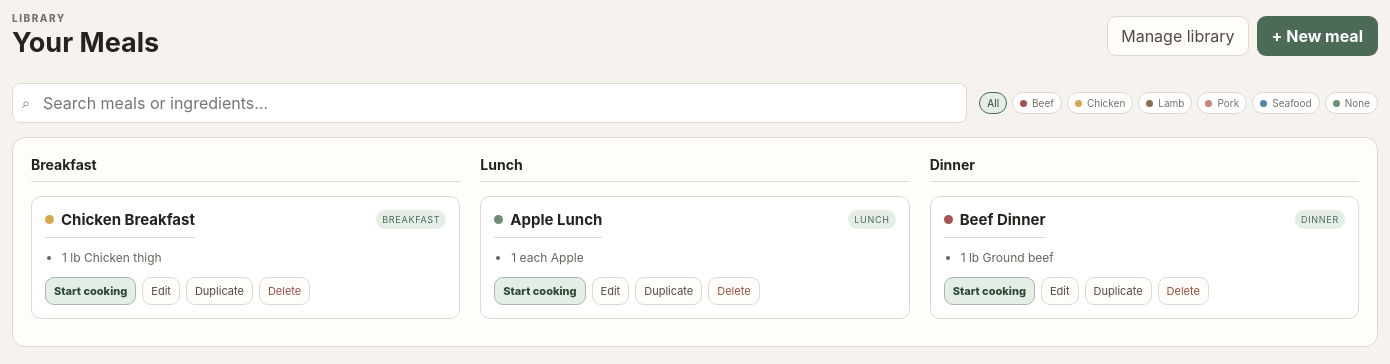
it: MealsView › filters desktop meal columns by protein category including None
What coordinates should you click on to do the following:
click the button "Chicken"
I would click on:
 (1100, 103)
Its box is [1067, 92, 1133, 114].
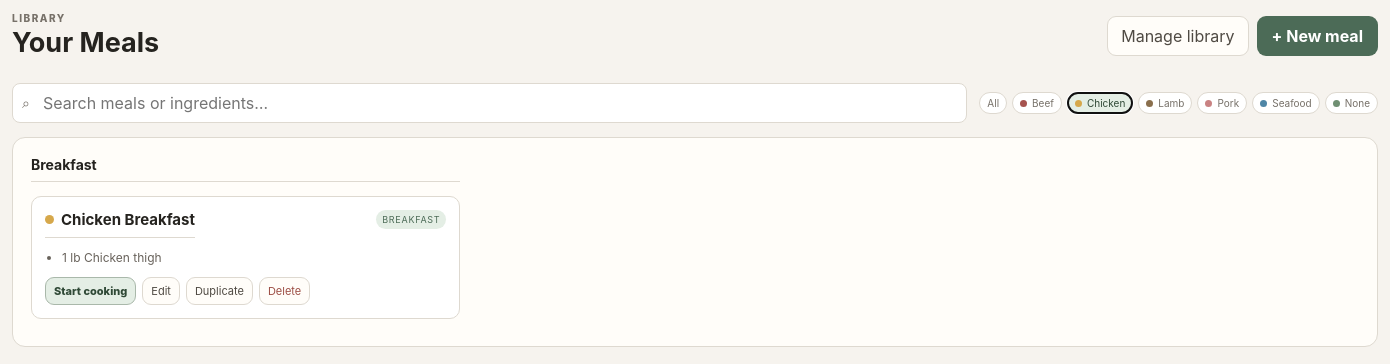
Expected: the heading "Apple Lunch" is gone
Expected: the heading "Beef Dinner" is gone
Expected: the heading "Lunch" is gone
What coordinates should you click on to do the following:
click the button "None"
I would click on:
 (1351, 103)
Its box is [1325, 92, 1378, 114].
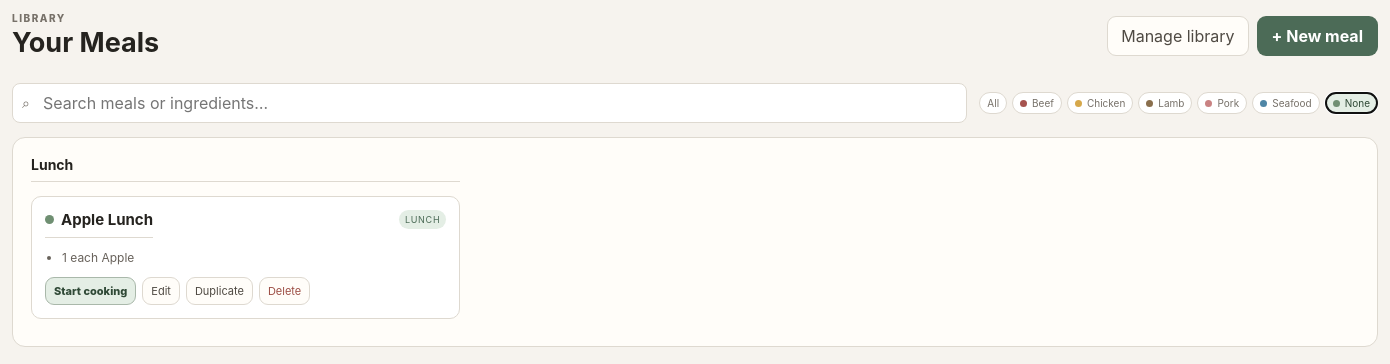
Expected: the heading "Beef Dinner" is not shown
Expected: the heading "Chicken Breakfast" is gone
Expected: the heading "Apple Lunch" is shown, [45, 210, 153, 238]
